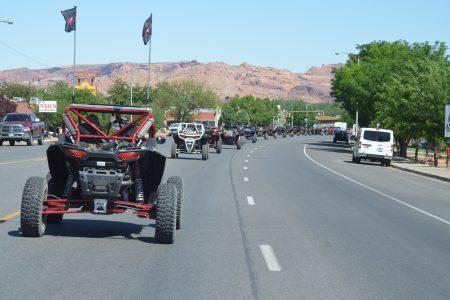car: (17, 98, 189, 245), (170, 105, 231, 162), (0, 106, 48, 147), (350, 128, 395, 170), (222, 117, 248, 150), (243, 119, 270, 146), (327, 126, 352, 150), (261, 123, 279, 142)
